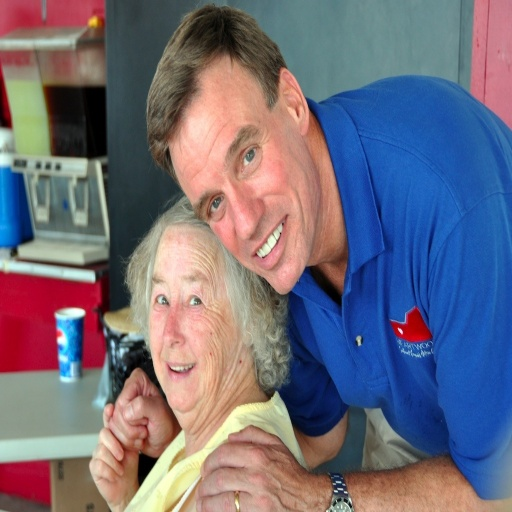hand: (197, 425, 309, 501), (109, 365, 179, 460), (87, 401, 138, 508)
